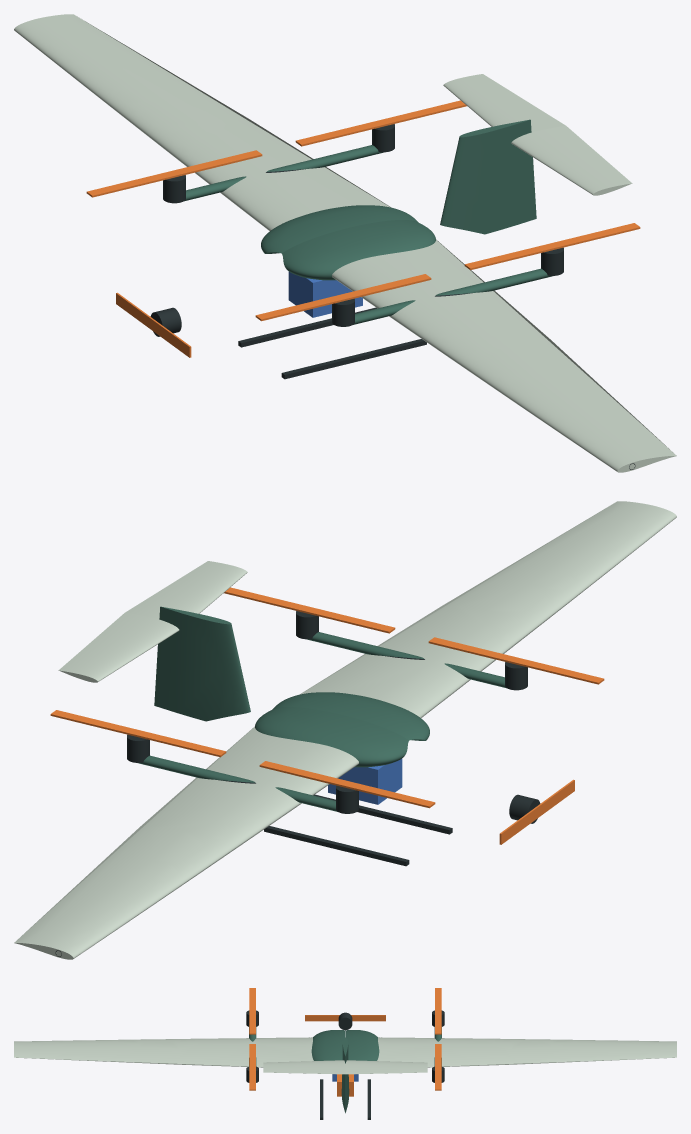
File: surface_tools-05-internal.glb
The picture shows the model from 3 angles, top to bottom: view 1: azimuth 30°, elevation 25°; view 2: azimuth 150°, elevation 25°; view 3: azimuth 270°, elevation 25°; orthographic projection. The views are drawn at different scales.
Parts seen in each view (by area): view 1: wing-1, wing1, fin, root_fairing-1, tail-1, root_fairing1, tail1, payload, boom_fairing-1, boom_fairing1, prop_-1_200.0, prop_1_200.0 (+5 smaller); view 2: wing1, wing-1, fin, root_fairing1, tail1, root_fairing-1, tail-1, payload, boom_fairing1, boom_fairing-1, prop_-1_200.0, prop_1_200.0 (+5 smaller); view 3: wing-1, wing1, tail-1, tail1, root_fairing-1, root_fairing1, cruise_prop, fin, prop_-1_200.0, prop_-1_700.0, prop_1_200.0, prop_1_700.0 (+2 smaller).
Boxes of the visible parts, x1,y1,x2,y2 form: wing-1: (332,239,676,472); wing1: (14,14,390,230); fin: (440,119,536,234); root_fairing-1: (282,220,435,280); tail-1: (511,126,632,195); root_fairing1: (261,205,418,253); tail1: (443,74,565,132); payload: (288,271,362,317); boom_fairing-1: (353,268,552,324); boom_fairing1: (184,145,383,201); prop_-1_200.0: (255,274,431,321); prop_1_200.0: (86,150,262,197); wing1: (14,726,358,959); wing-1: (300,501,676,717); fin: (154,606,250,721); root_fairing1: (255,707,408,767); tail1: (58,613,179,682); root_fairing-1: (272,692,429,740); tail-1: (125,561,247,619); payload: (328,758,402,804); boom_fairing1: (138,755,337,811); boom_fairing-1: (307,632,506,688); prop_-1_200.0: (428,637,604,684); prop_1_200.0: (259,761,435,808); wing-1: (14,1037,313,1067); wing1: (377,1037,676,1067); tail-1: (263,1060,345,1074); tail1: (345,1060,427,1074); root_fairing-1: (311,1030,345,1060); root_fairing1: (345,1030,379,1060); cruise_prop: (305,1015,385,1021); fin: (341,1037,349,1113); prop_-1_200.0: (249,988,255,1034); prop_-1_700.0: (249,1044,255,1090); prop_1_200.0: (435,988,441,1034); prop_1_700.0: (435,1044,441,1090).
Bounding box in the file's own units: 989 × 405 × 2500.
